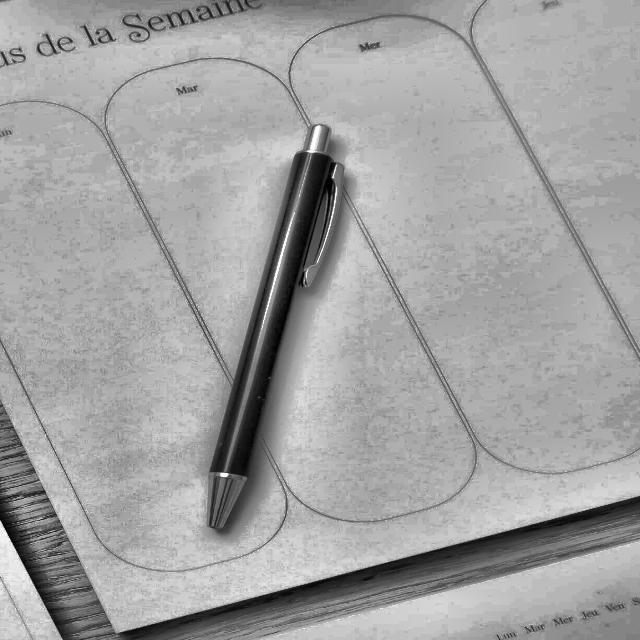Pen: (214, 108, 350, 521)
